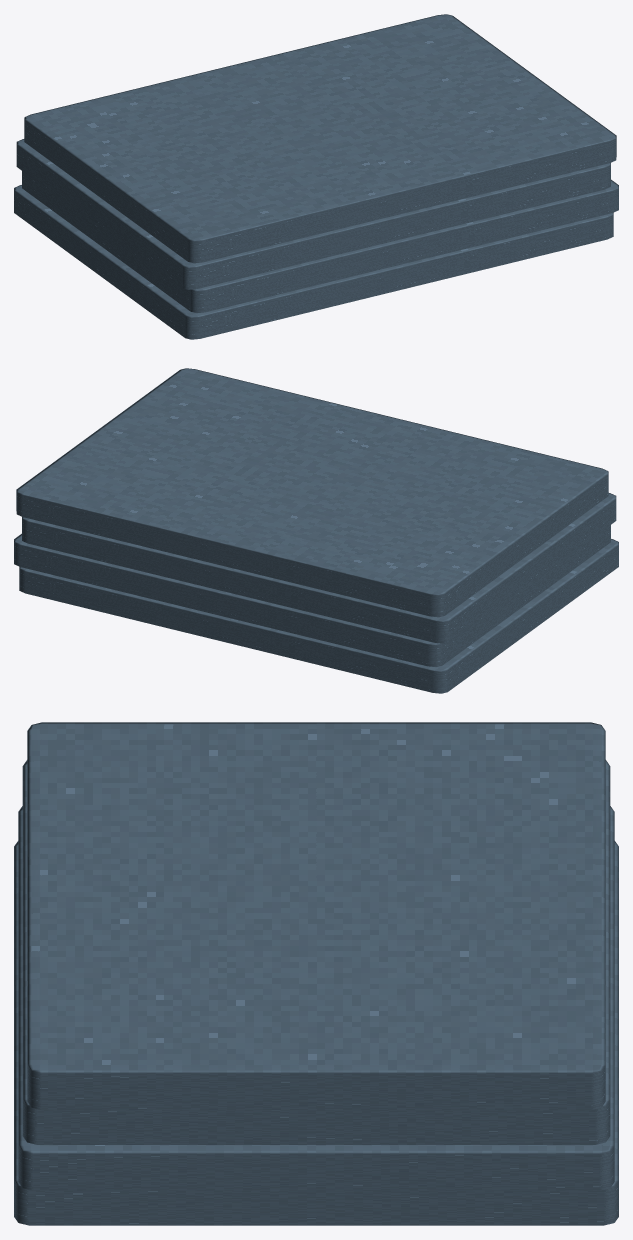
File: blanket.glb
3 views of the same model, one above another, from view 1: azimuth 30°, elevation 25°; view 2: azimuth 150°, elevation 25°; view 3: azimuth 270°, elevation 25° (orthographic). The views are drawn at different scales.
Parts seen in each view (by area): view 1: fold (×4); view 2: fold (×4); view 3: fold (×4).
Part boxes in pixels (left/top/right/bottom): fold (×4): left=14, top=14, right=618, bottom=339; fold (×4): left=14, top=368, right=618, bottom=693; fold (×4): left=14, top=722, right=618, bottom=1225.
Size of the model in its own units: 0.5221 by 0.1089 by 0.3744.
1 material, 1 textured.
